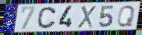4: (58, 5, 75, 31)
5: (99, 4, 116, 28)
7: (20, 6, 38, 32)
C: (36, 6, 57, 30)
Q: (116, 5, 136, 28)
X: (77, 5, 97, 29)
